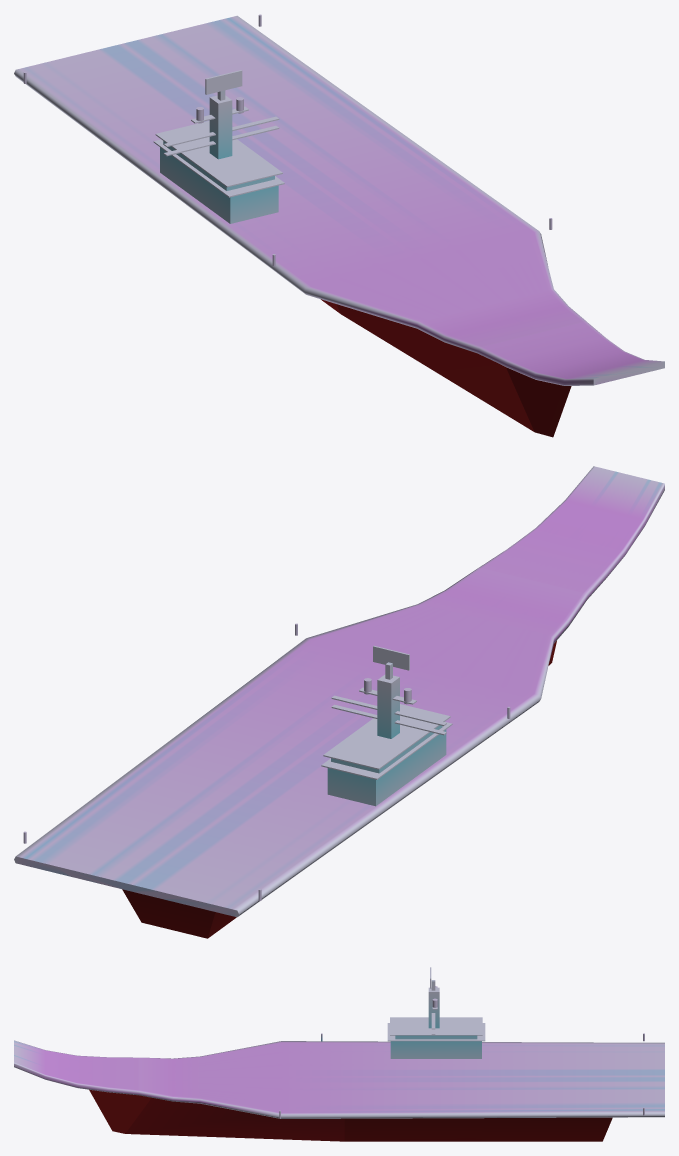
3 renders of one model, top to bottom at view 1: azimuth 30°, elevation 25°; view 2: azimuth 150°, elevation 25°; view 3: azimuth 270°, elevation 25°, orthographic. The views are drawn at different scales.
Parts seen in each view (by area): view 1: deck, hull_skin, bridge_roof, walls, mast, roof, radar; view 2: deck, bridge_roof, walls, hull_skin, mast, roof; view 3: deck, hull_skin, walls, bridge_roof, roof, bridge, mast.
Part boxes in pixels (x1=…): deck: x1=14, y1=15, x2=664, y2=385; hull_skin: x1=321, y1=299, x2=571, y2=437; bridge_roof: x1=155, y1=120, x2=282, y2=187; walls: x1=160, y1=147, x2=278, y2=223; mast: x1=209, y1=95, x2=232, y2=159; roof: x1=153, y1=139, x2=284, y2=197; radar: x1=205, y1=70, x2=242, y2=94; deck: x1=14, y1=466, x2=664, y2=917; bridge_roof: x1=323, y1=704, x2=450, y2=769; walls: x1=327, y1=729, x2=446, y2=806; hull_skin: x1=122, y1=641, x2=556, y2=938; mast: x1=377, y1=674, x2=399, y2=738; roof: x1=321, y1=722, x2=452, y2=779; deck: x1=14, y1=1040, x2=664, y2=1118; hull_skin: x1=89, y1=1089, x2=612, y2=1141; walls: x1=390, y1=1041, x2=481, y2=1058; bridge_roof: x1=390, y1=1017, x2=482, y2=1035; roof: x1=387, y1=1023, x2=485, y2=1041; bridge: x1=395, y1=1035, x2=477, y2=1039; mast: x1=428, y1=987, x2=439, y2=1028.
Bounding box in the file's own units: 30.84 × 22.32 × 100.
